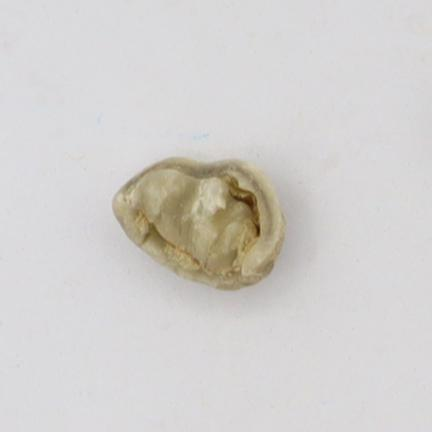shell: (113, 159, 284, 289)
